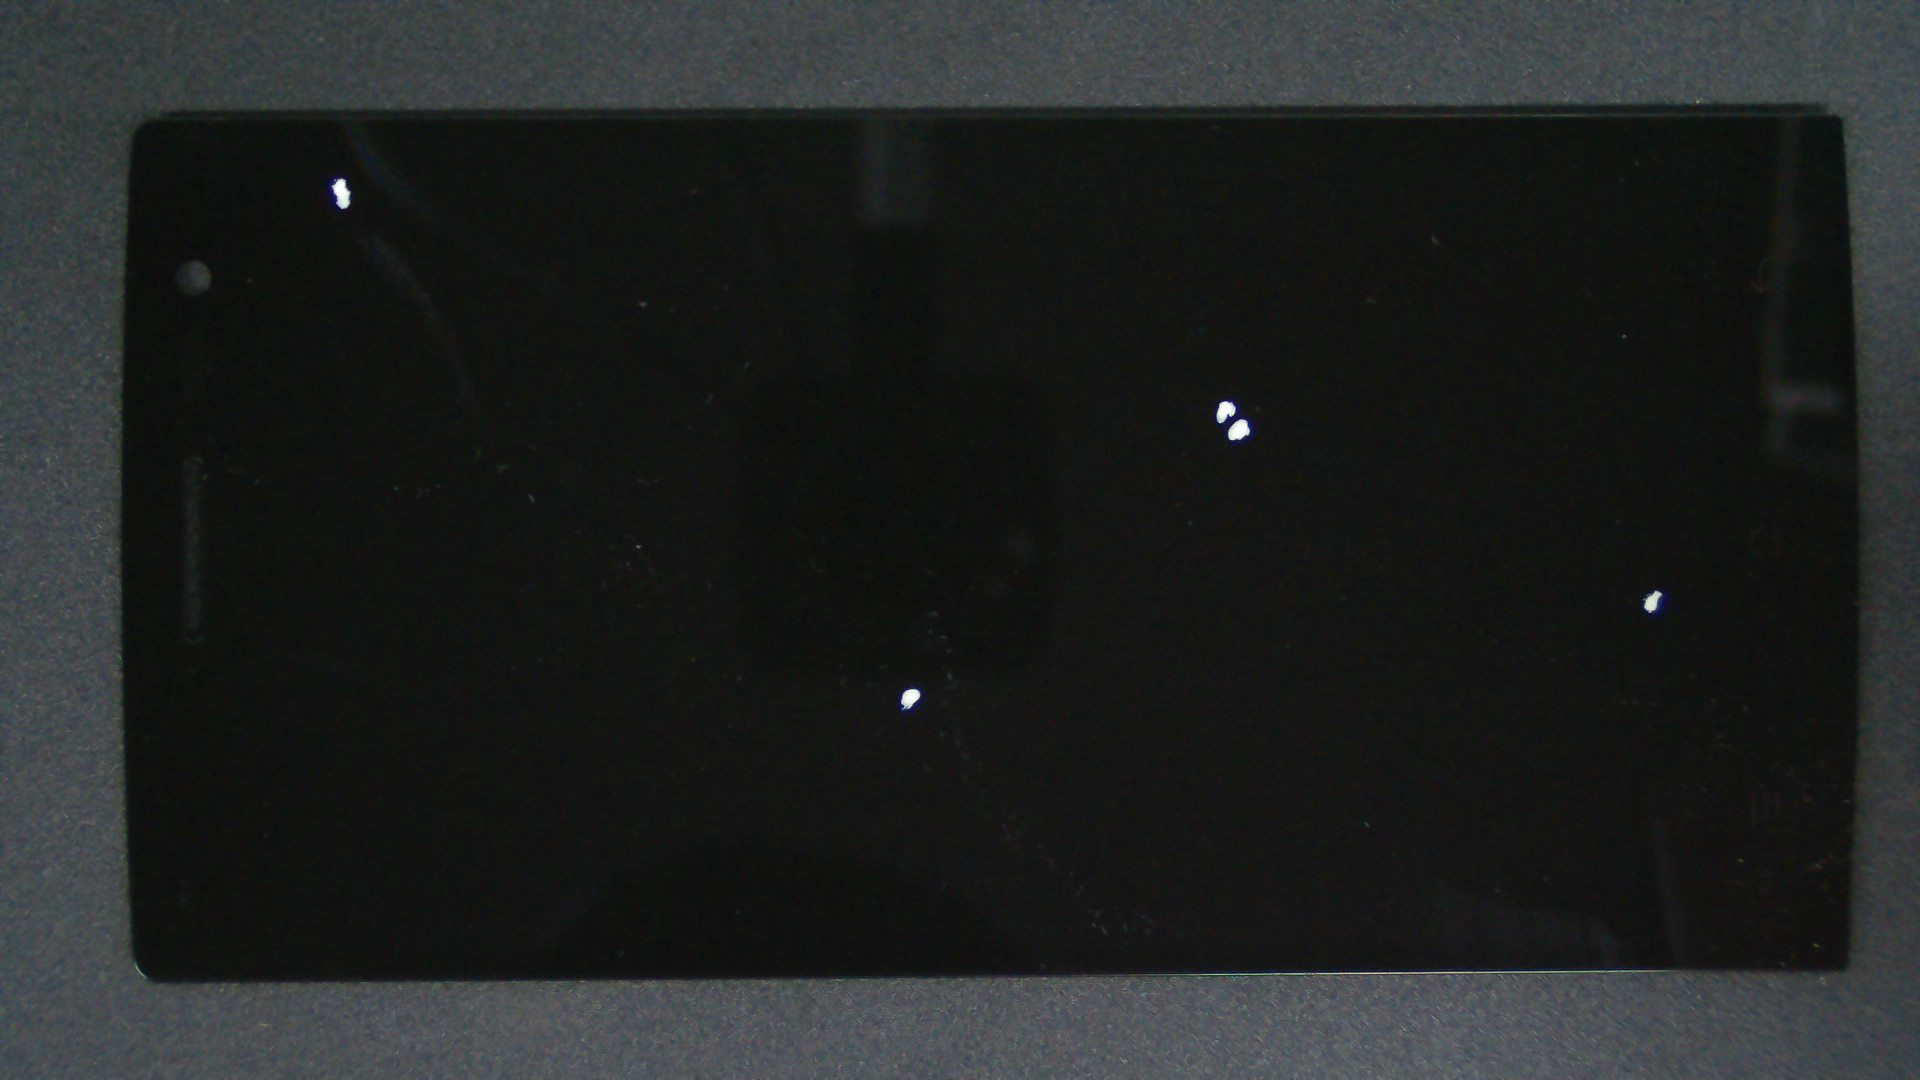defect: (328, 175, 352, 210), (1226, 417, 1251, 440), (1642, 589, 1664, 615), (1215, 400, 1236, 425), (899, 687, 920, 711)
